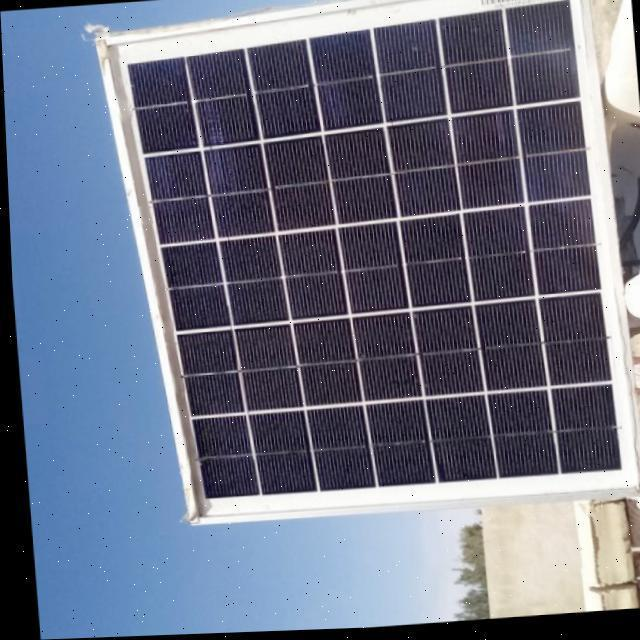Normal Solar Panel: (93, 0, 634, 531)
